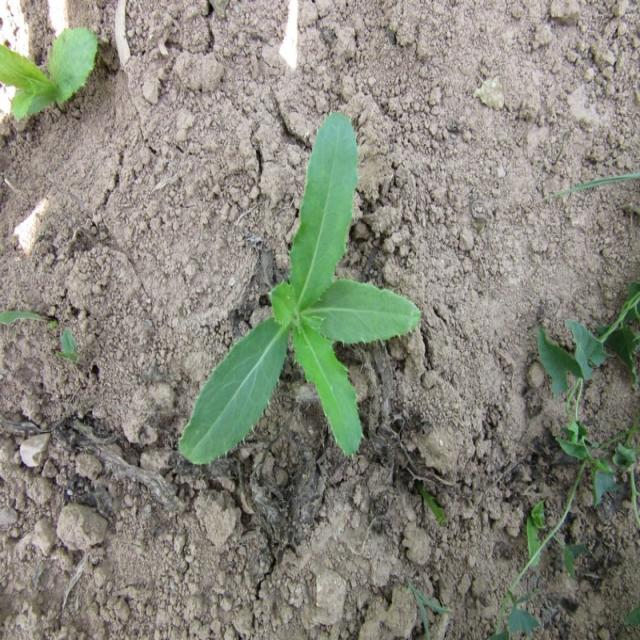field_thistle: (186, 92, 428, 490)
